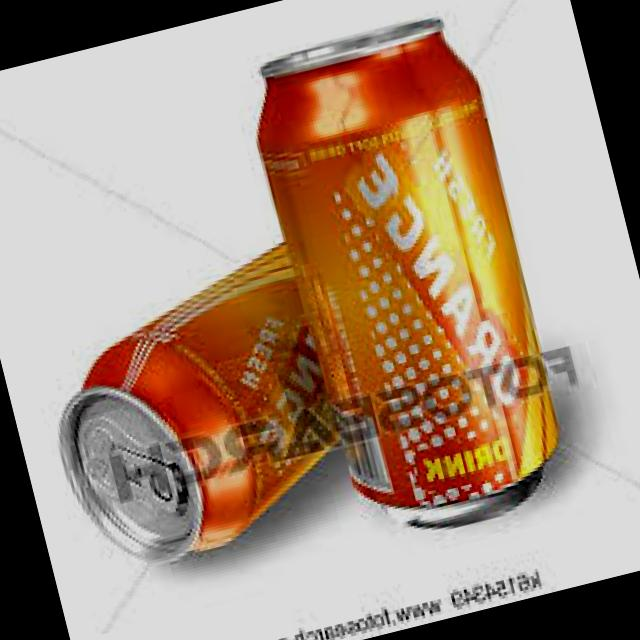metal: (59, 387, 202, 561), (260, 19, 442, 79), (383, 467, 541, 529)
